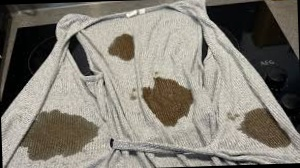coffee: (27, 113, 83, 150), (146, 81, 187, 118), (250, 115, 275, 139), (111, 37, 134, 59)
